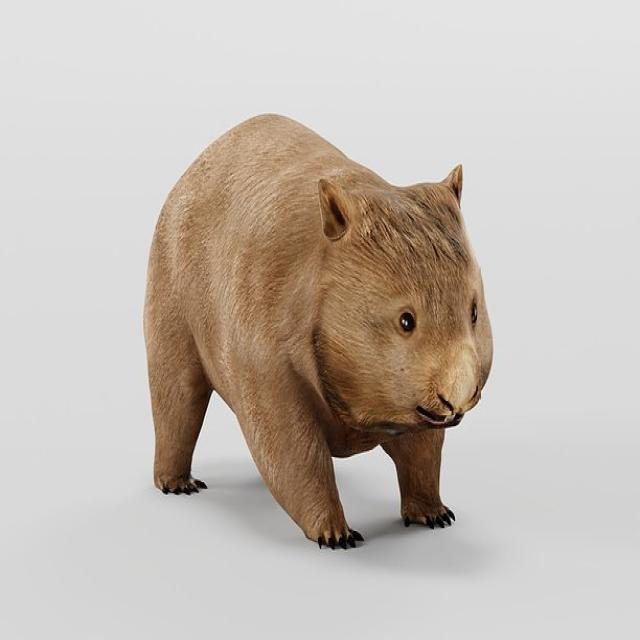Wombat: (134, 93, 502, 556)
